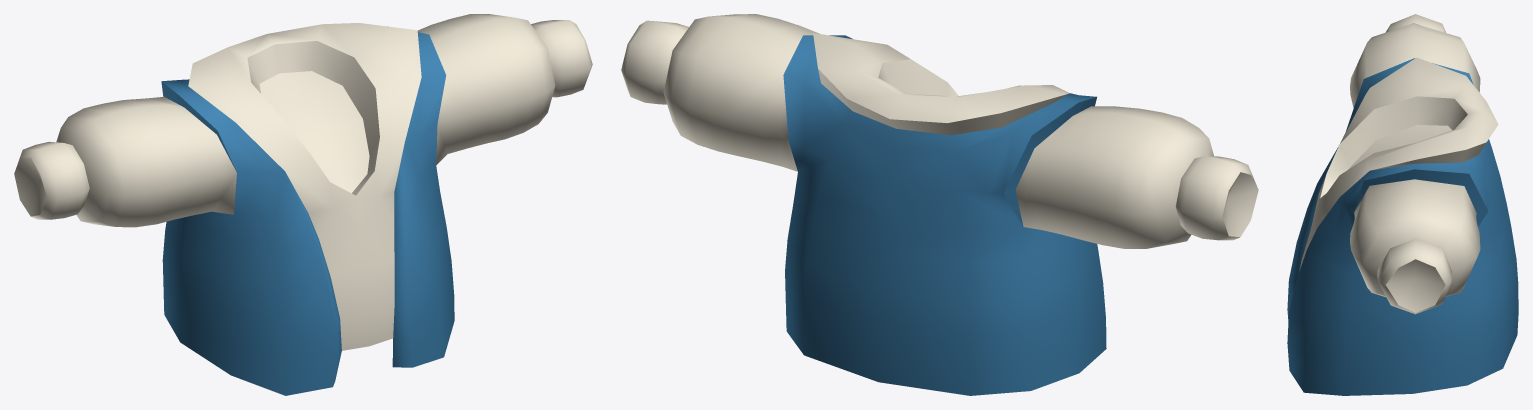
File: Top_53.fbx
3 renders of one model, left to right at view 1: azimuth 30°, elevation 25°; view 2: azimuth 150°, elevation 25°; view 3: azimuth 270°, elevation 25°, orthographic. The views are drawn at different scales.
Parts seen in each view (by area): view 1: Top_53; view 2: Top_53; view 3: Top_53.
Boxes of the visible parts, x1,y1,x2,y2 form: Top_53: (14, 14, 592, 395); Top_53: (621, 14, 1258, 395); Top_53: (1287, 14, 1518, 395).
Bounding box in the file's own units: 95.72 × 46.31 × 38.51.
